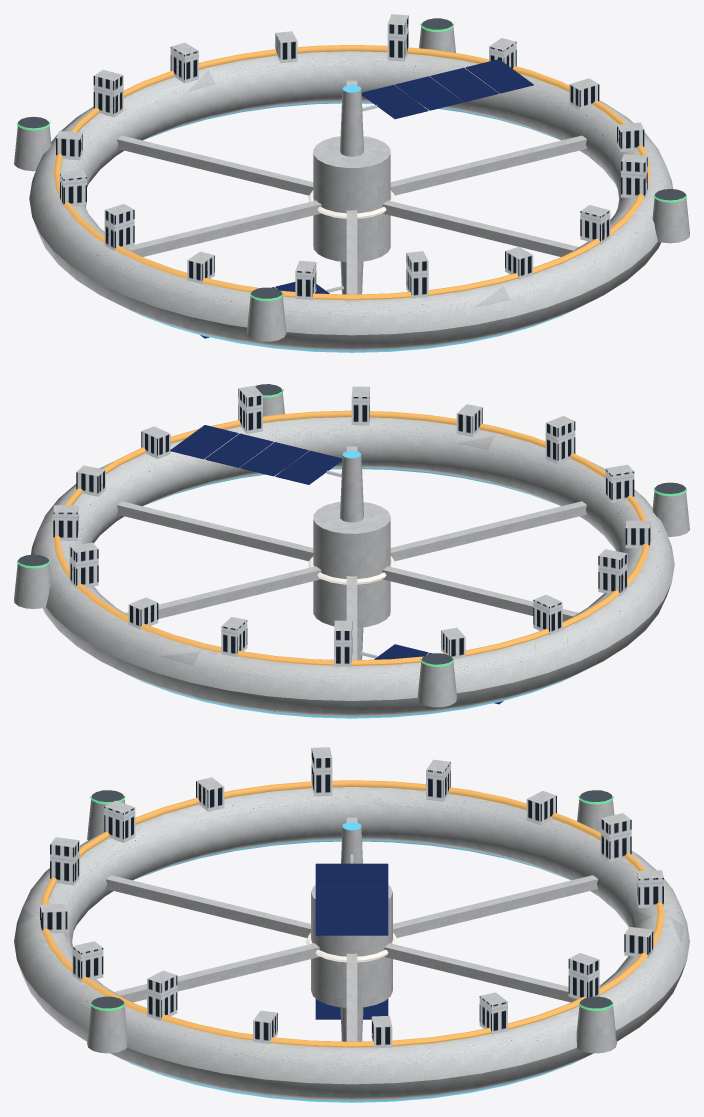
File: orbital_ring_town.glb
The picture shows the model from 3 angles, top to bottom: view 1: azimuth 30°, elevation 25°; view 2: azimuth 150°, elevation 25°; view 3: azimuth 270°, elevation 25°; orthographic projection. The views are drawn at different scales.
Parts seen in each view (by area): view 1: orbital_ring_town_LOD0; view 2: orbital_ring_town_LOD0; view 3: orbital_ring_town_LOD0.
Boxes of the visible parts, bbox=[...] form: orbital_ring_town_LOD0: bbox=[14, 14, 689, 352]; orbital_ring_town_LOD0: bbox=[14, 384, 689, 718]; orbital_ring_town_LOD0: bbox=[14, 747, 689, 1102].
Size of what is drawn, in the model's own units: 74.4 by 28 by 74.4.
Materials: 3 (3 with a texture image).
